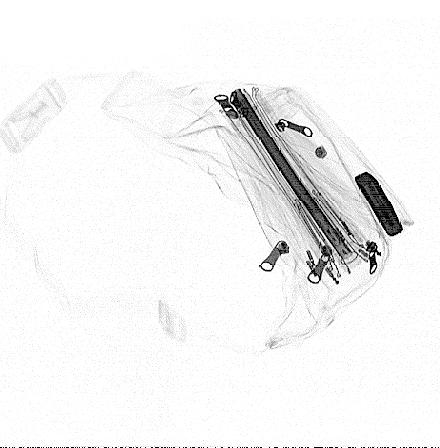Lighter: (352, 171, 404, 237)
